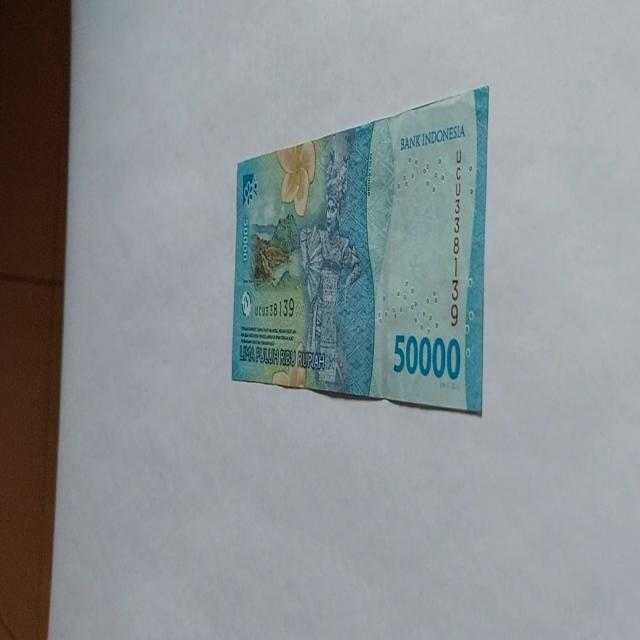lima puluh ribu rupiah: (230, 83, 490, 417)
